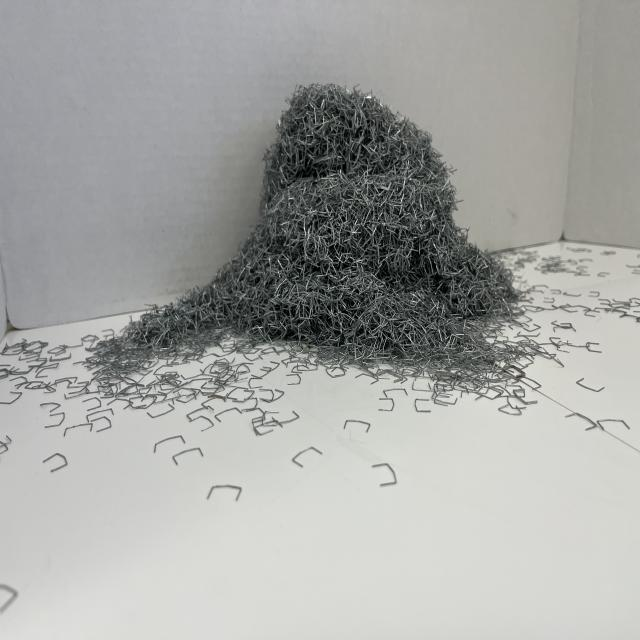staples: (85, 80, 523, 380)
